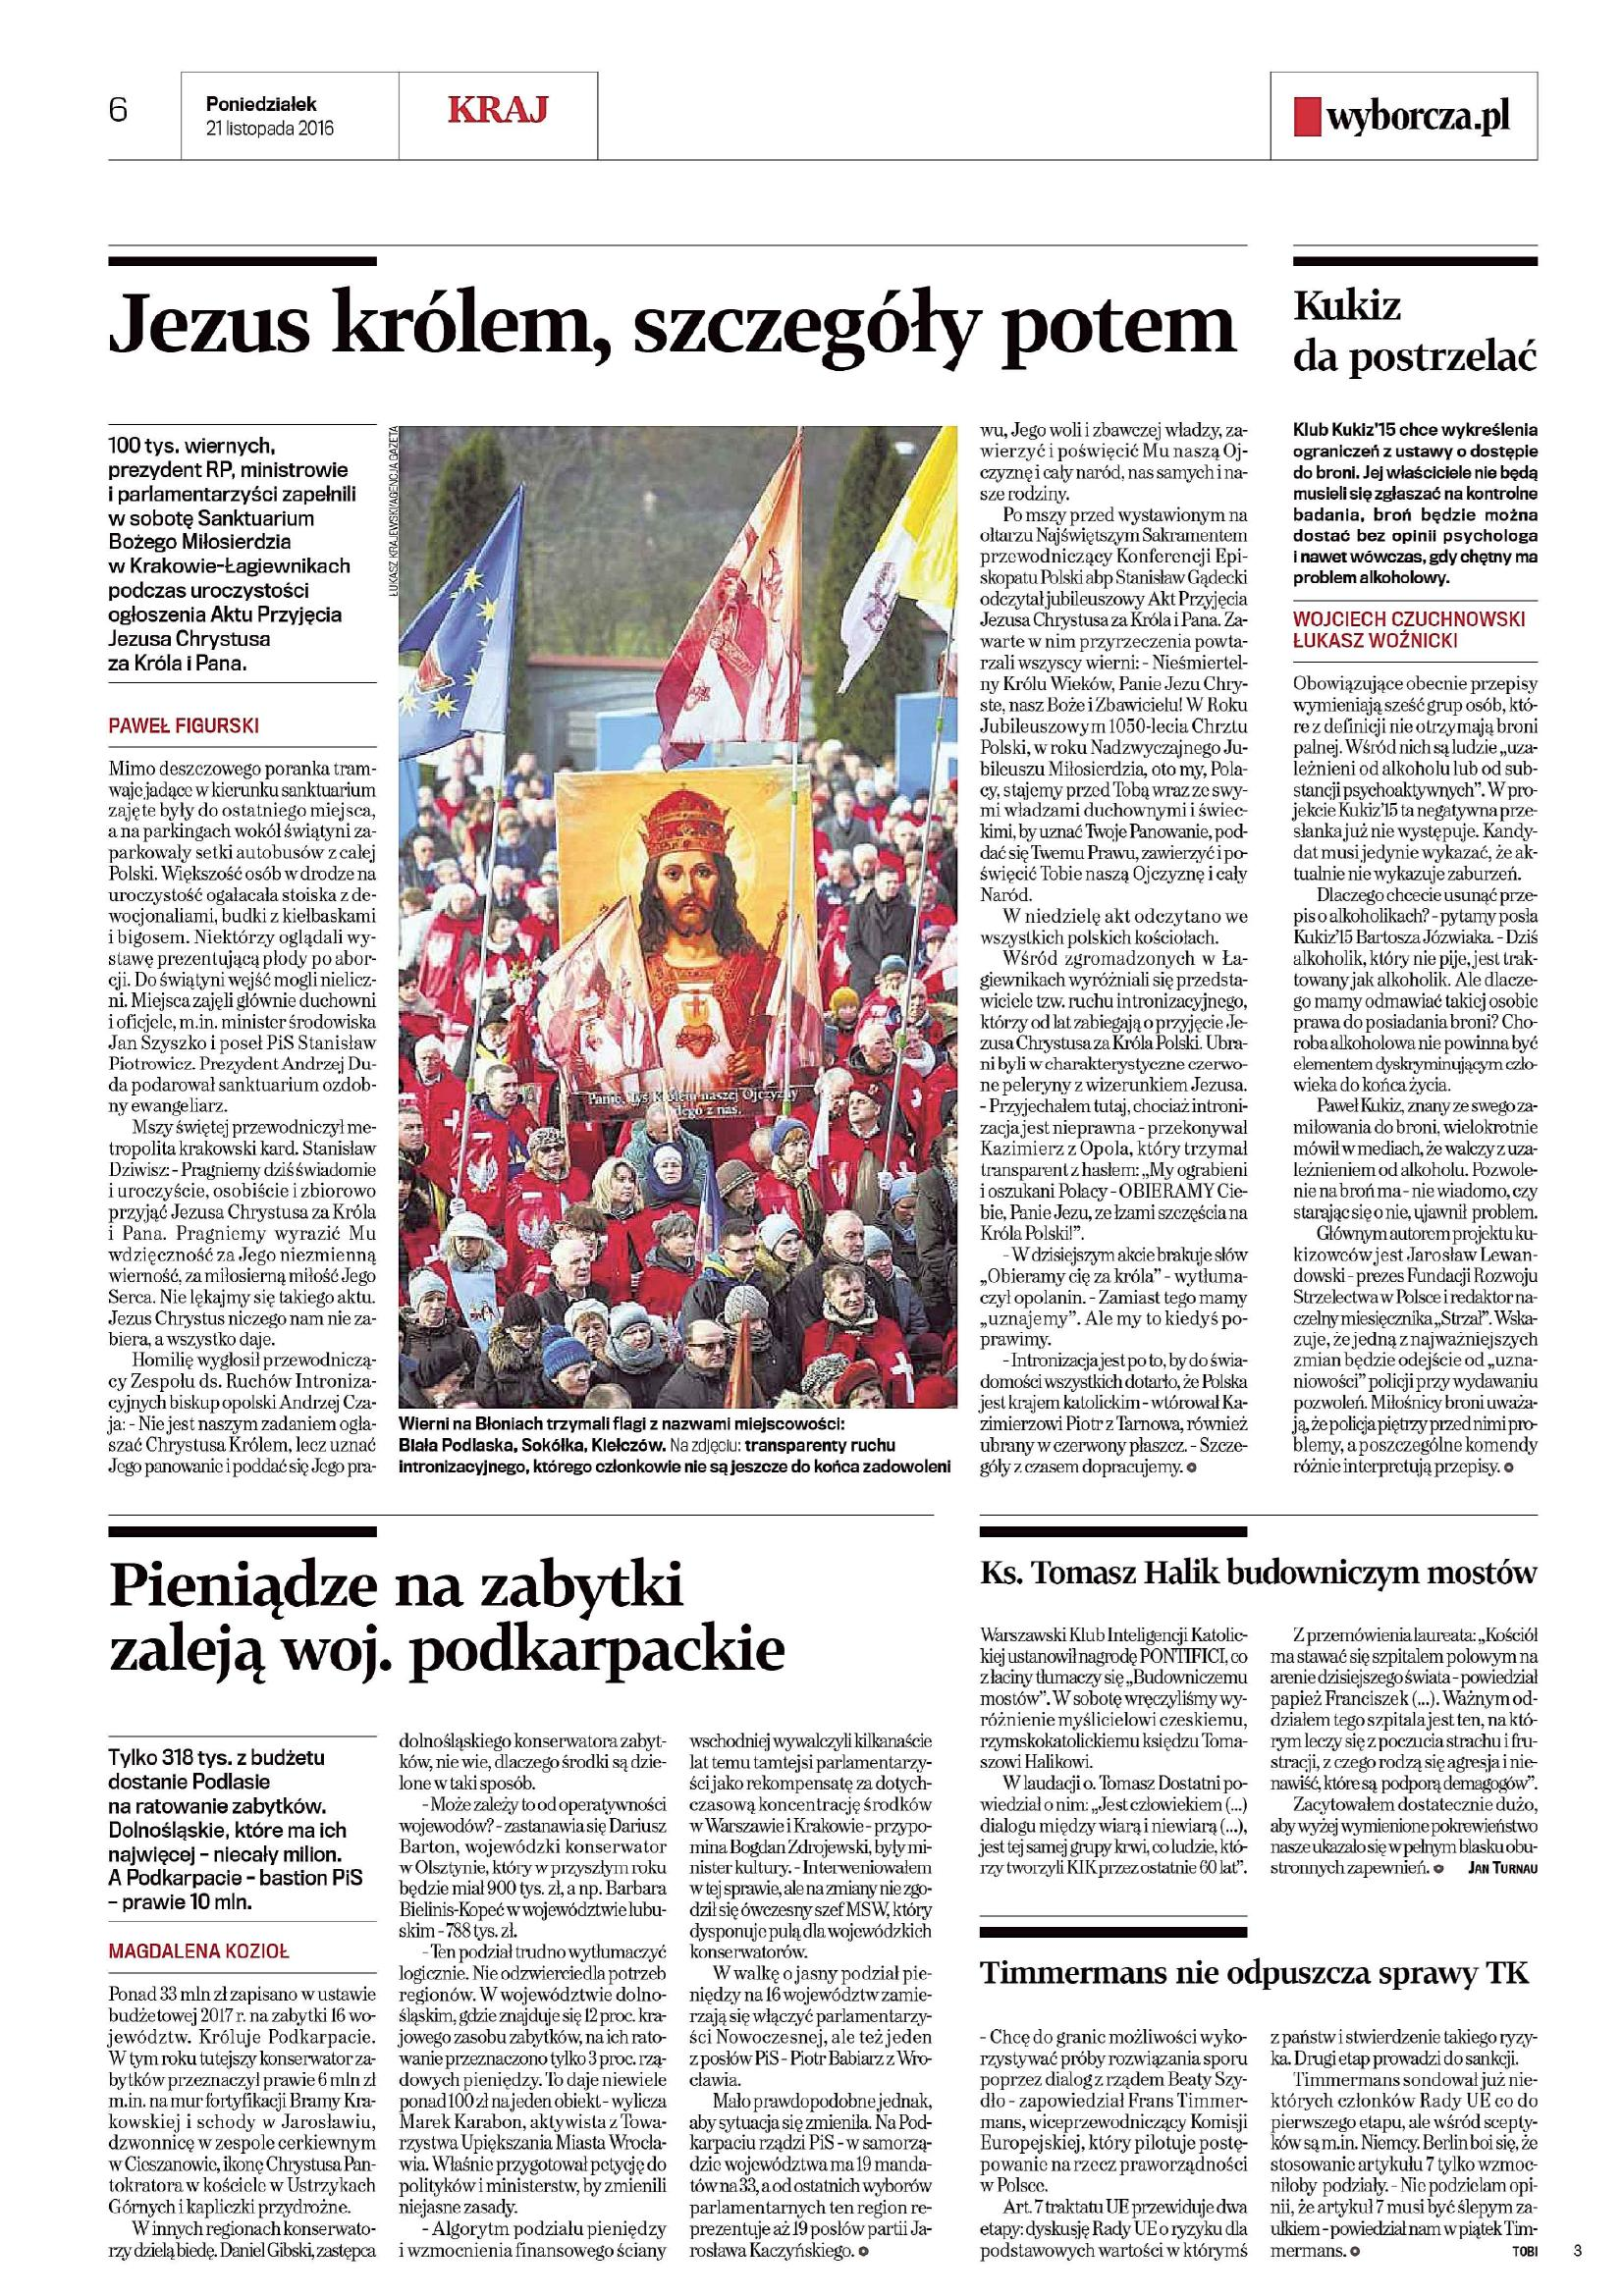article: (100, 248, 1259, 1492), (104, 1517, 943, 2264), (1284, 248, 1554, 1492), (968, 1517, 1558, 1892), (970, 1919, 1549, 2275)
